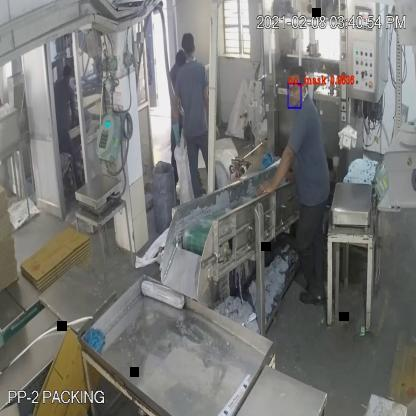no_glove: (256, 140, 304, 204)
